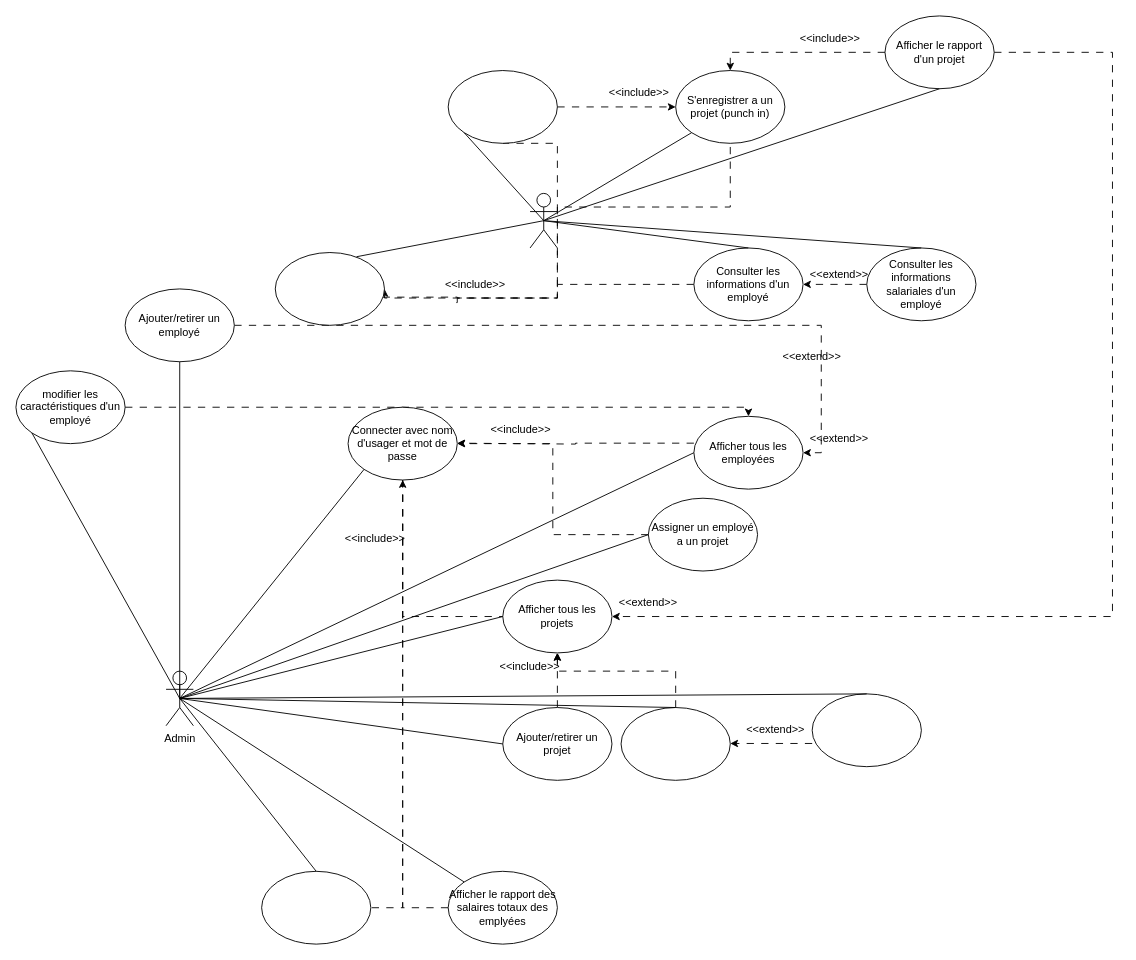
This 1136x960 diagram has some shape labels left out. Each missing label, with the centre of its shape:
"Afficher le rapport d'état Global des projets" goes at pixel 316 907.
"Connecter avec Nom d'usager et ID" goes at pixel 329 288.
"Definir les disciplines" goes at pixel 866 730.
"Employé" goes at pixel 543 220.
"Modifier les caractéritique d'un projet" goes at pixel 675 743.
"Se retirer d'un projet (punch out)" goes at pixel 502 106.
